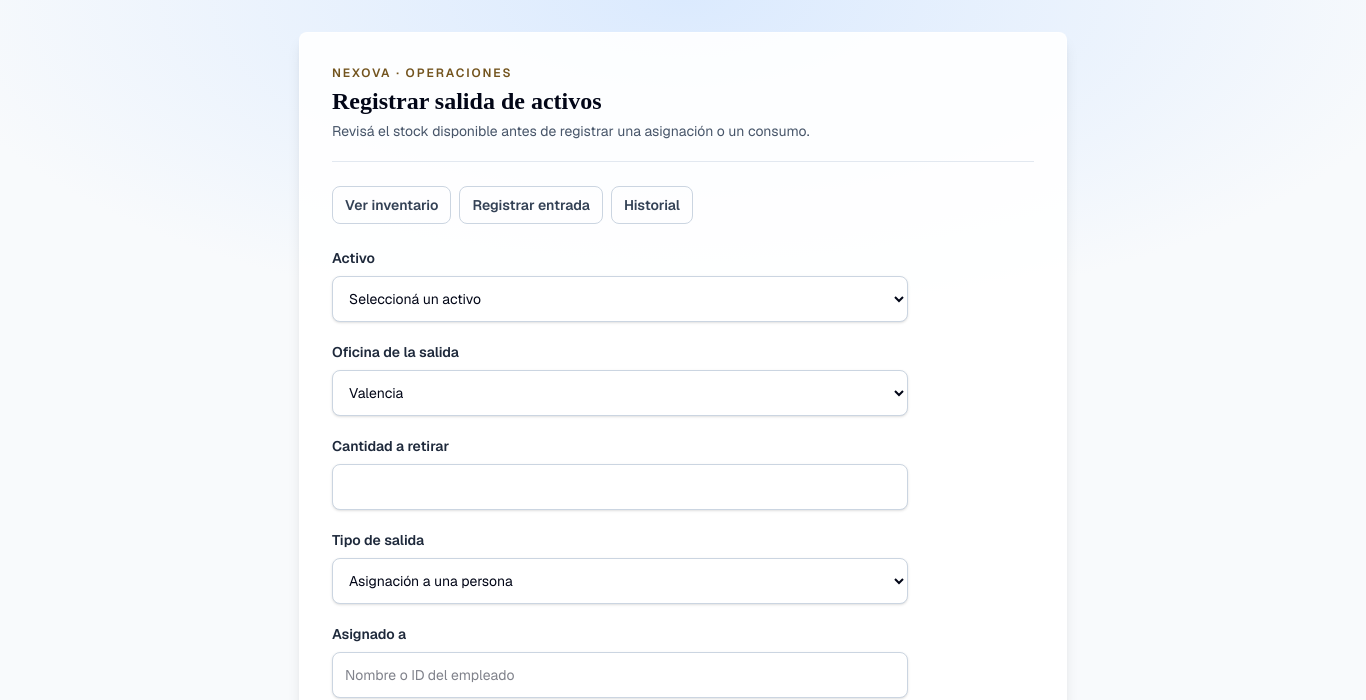
Test case: OutboundOrderPage › advierte antes de enviar si la cantidad supera el stock
This screenshot has width=1366, height=700.
Select "Portátil 14\" Business (NXV-IT-001) · Valencia" in the dropdown labelled "Activo" at point(620, 299), box [332,276,908,322]
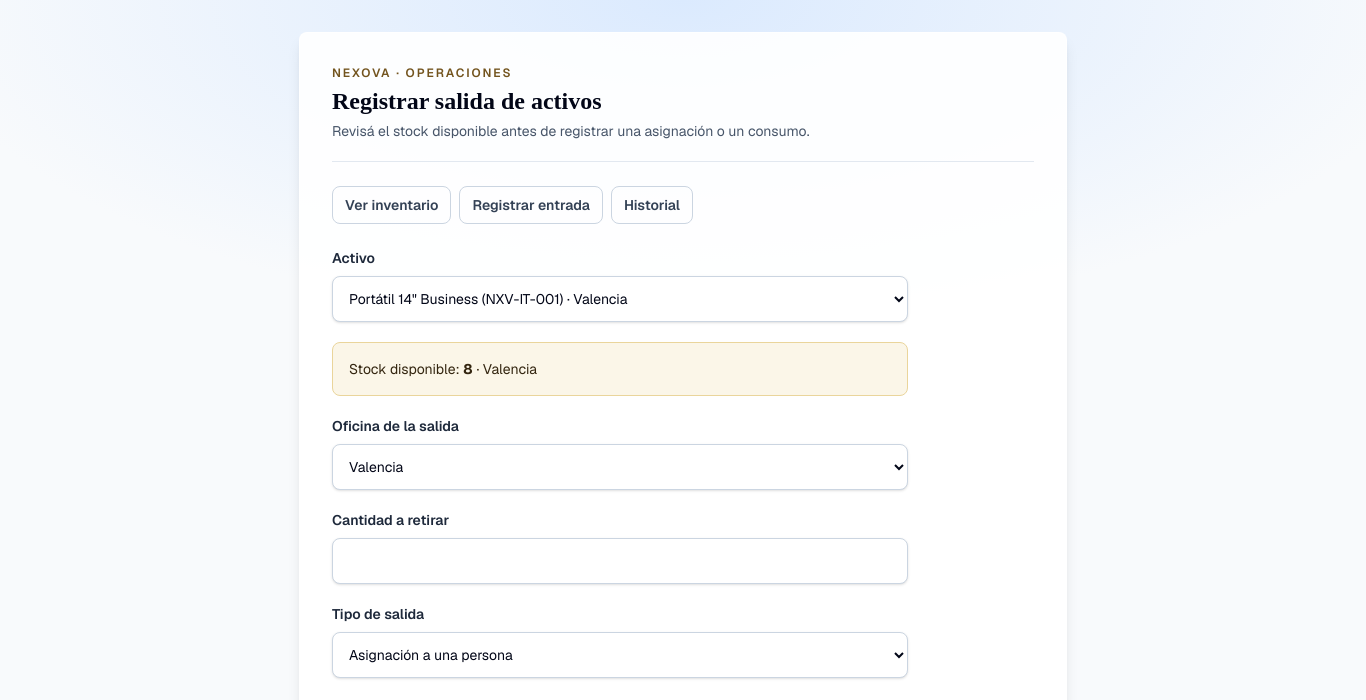
Type "9" into the number field labelled "Cantidad a retirar" at point(620, 561), box [332,538,908,584]
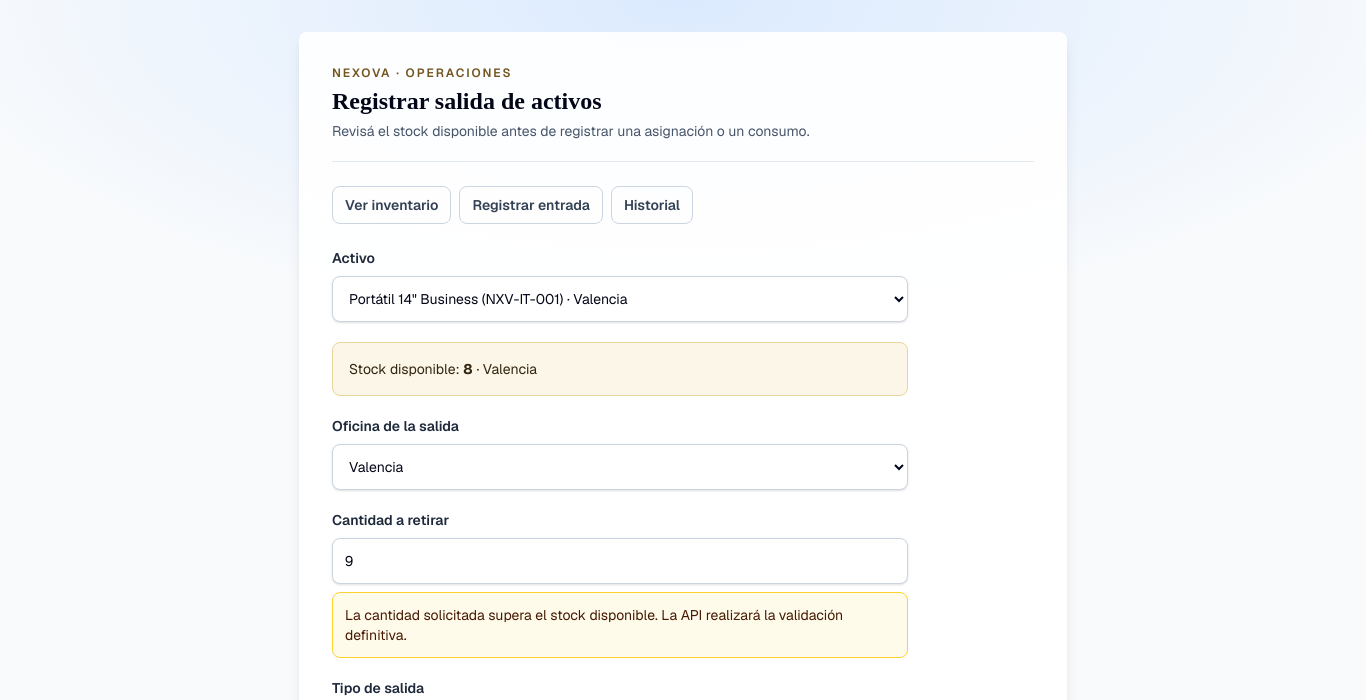
Result: the message shows "supera el stock disponible" at [345,606,843,644]
